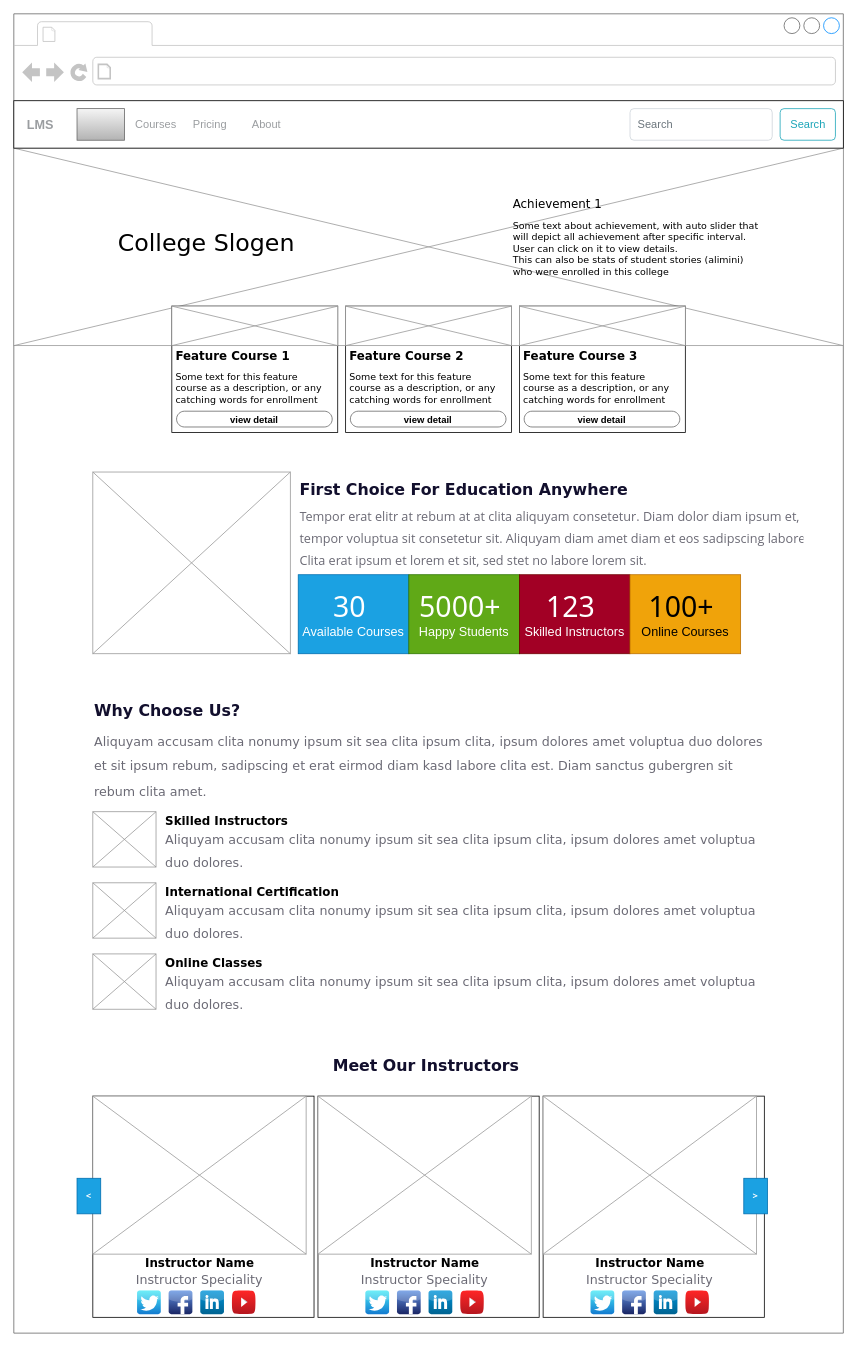
Image size: 857x1347. Some labels were removed from this diagram. Each missing label, with the centre of its shape:
"Home" goes at pixel 100 124.
"https://www.default.com" goes at pixel 215 71.
"Page 1" goes at pixel 104 33.
